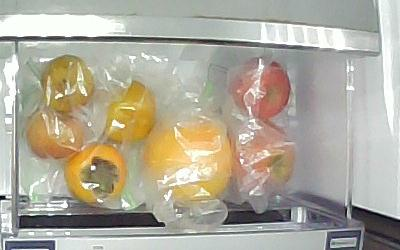apple_vinyl: (231, 122, 296, 190), (233, 58, 291, 119)
grapefruit_vinyl: (145, 118, 230, 204)
persimmon_vinyl: (62, 142, 128, 207), (99, 80, 155, 142)
prune_vinyl: (39, 55, 95, 114), (26, 108, 84, 158)
